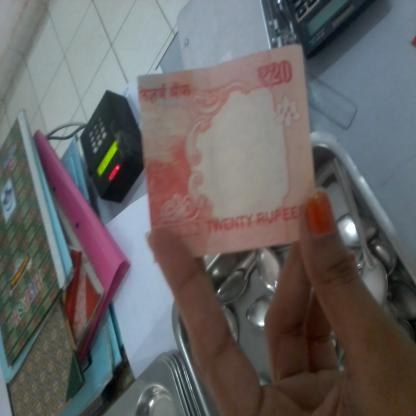Old20Back: (137, 44, 315, 256)
